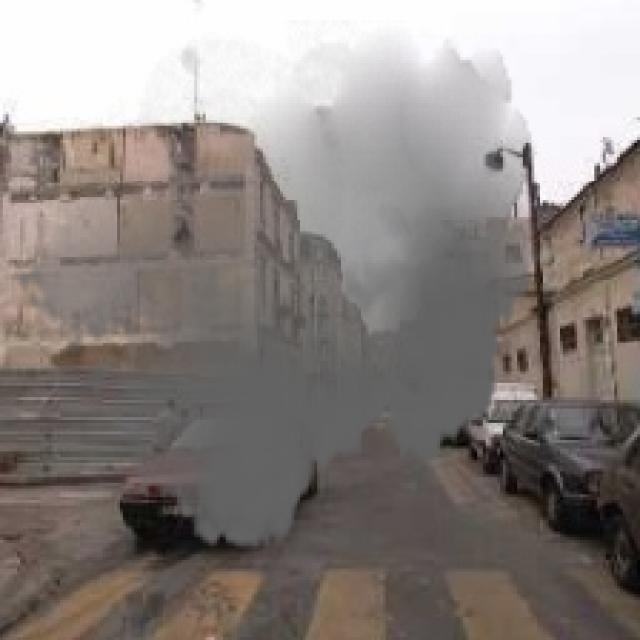Smoke: (14, 20, 543, 569)
